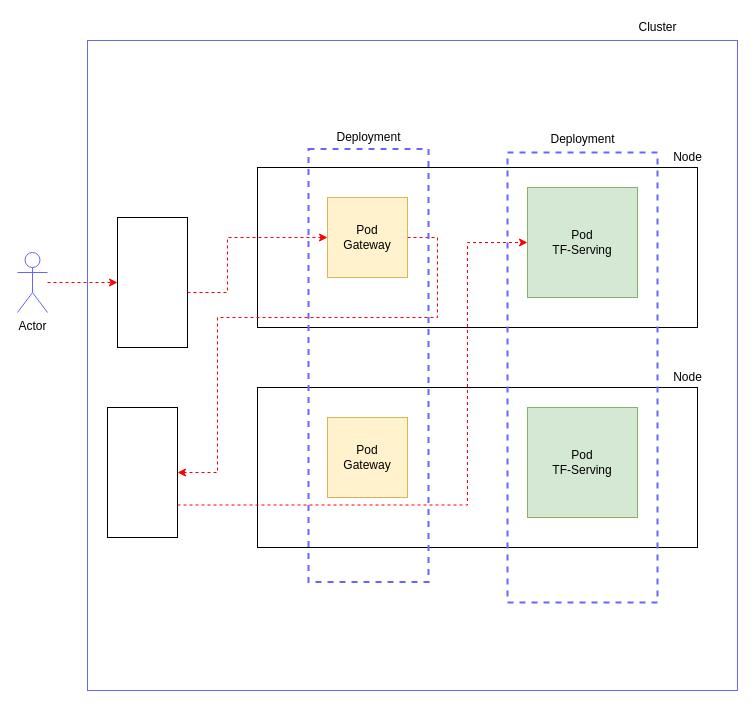
This 755x708 diagram has some shape labels left out. Each missing label, with the box of its shape:
Gateway Service (External): (116, 216, 188, 348)
Model Service (Internal): (106, 406, 178, 538)
